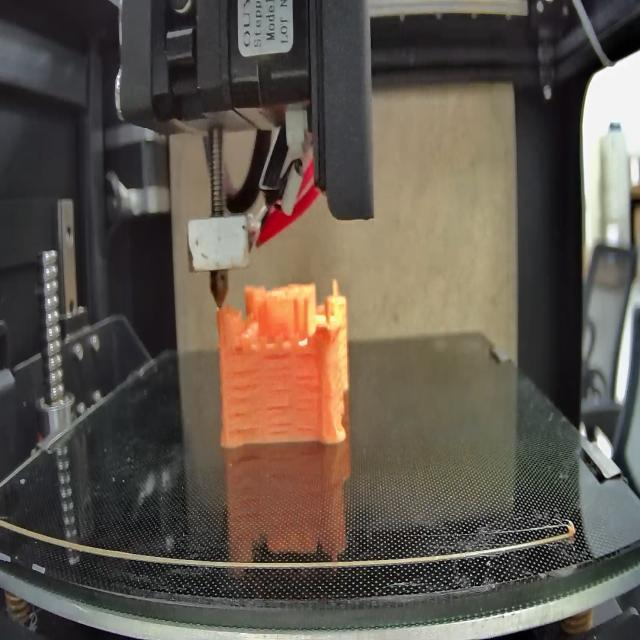cracks: (230, 365, 263, 433), (294, 374, 321, 433), (262, 349, 294, 396), (267, 402, 293, 435), (296, 349, 321, 362)
